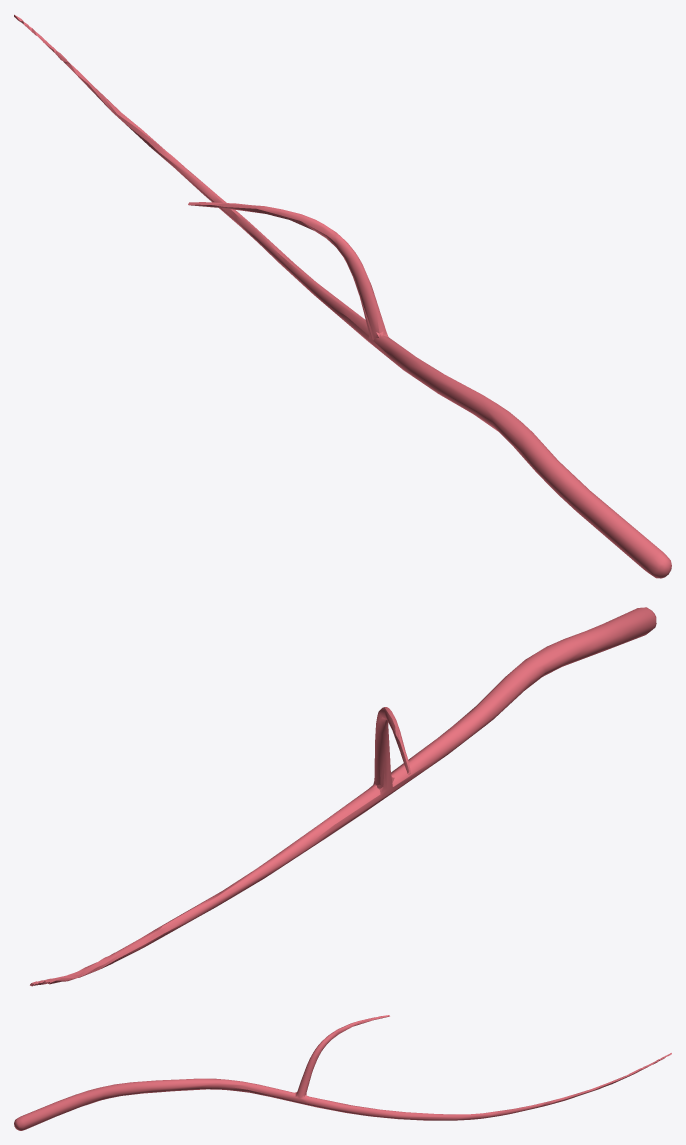
The model's file is fma50361_fj5042.glb.
The picture shows the model from 3 angles, top to bottom: view 1: azimuth 30°, elevation 25°; view 2: azimuth 150°, elevation 25°; view 3: azimuth 270°, elevation 25°; orthographic projection. The views are drawn at different scales.
Parts seen in each view (by area): view 1: FMA50361_FJ5042; view 2: FMA50361_FJ5042; view 3: FMA50361_FJ5042.
Part boxes in pixels (bbox=[...]): FMA50361_FJ5042: bbox=[14, 14, 671, 578]; FMA50361_FJ5042: bbox=[30, 607, 656, 986]; FMA50361_FJ5042: bbox=[14, 1015, 671, 1130].
Size of the model in its own units: 0.00752 by 0.00789 by 0.0543.
